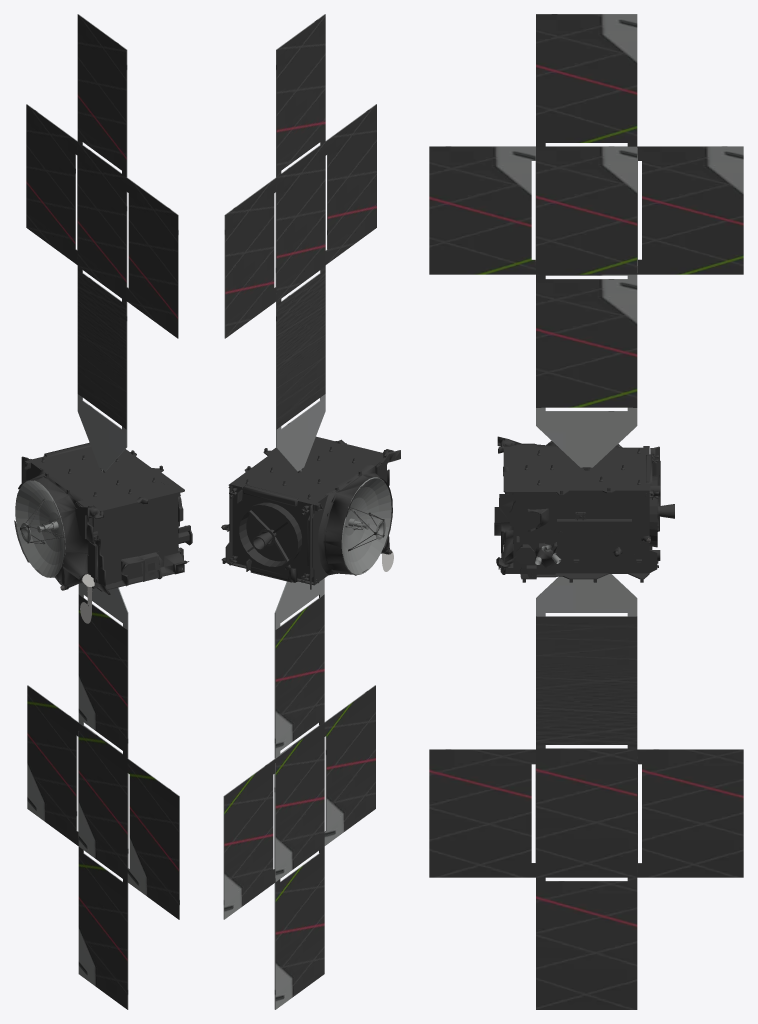
The model's file is juice.glb.
The picture shows the model from 3 angles, left to right: view 1: azimuth 30°, elevation 25°; view 2: azimuth 150°, elevation 25°; view 3: azimuth 270°, elevation 25°; orthographic projection. The views are drawn at different scales.
Parts seen in each view (by area): view 1: sa+y_mesh, bus_mesh; view 2: sa+y_mesh, bus_mesh; view 3: sa+y_mesh, bus_mesh.
Part boxes in pixels (x1,y1,x2,y2): sa+y_mesh: [26, 14, 179, 1009]; bus_mesh: [14, 442, 192, 594]; sa+y_mesh: [223, 14, 376, 1009]; bus_mesh: [221, 436, 400, 589]; sa+y_mesh: [429, 14, 743, 1009]; bus_mesh: [494, 436, 674, 582].
Bounding box in the file's own units: 3.95 × 26.76 × 7.66.
4 materials, 4 textured.
